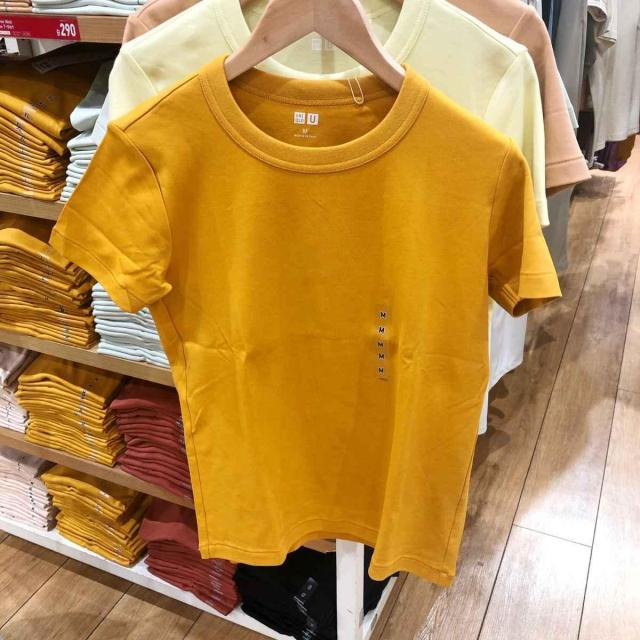Tshirt: (78, 59, 568, 596)
